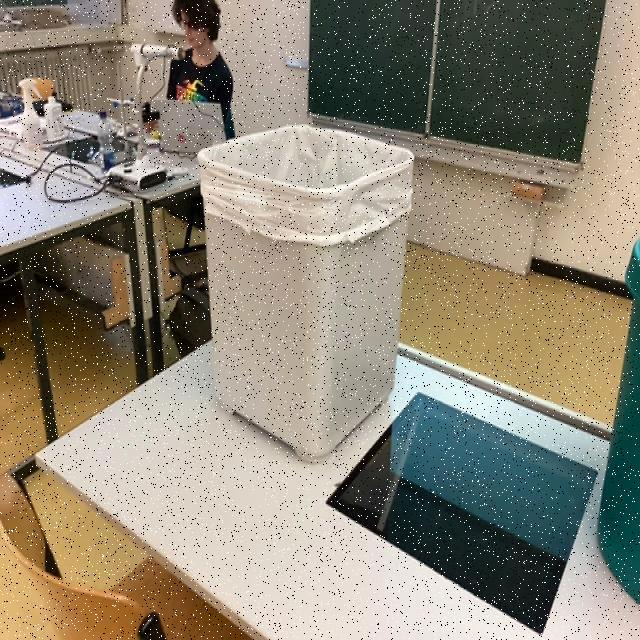garbage container: (190, 111, 422, 463)
